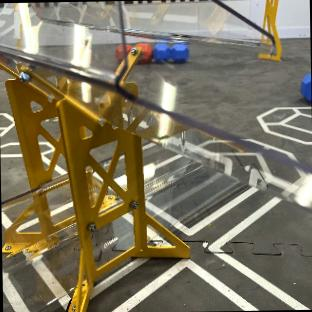V5_BLUE: (154, 43, 187, 62), (301, 73, 311, 101)
V5_RED: (115, 41, 152, 62)
